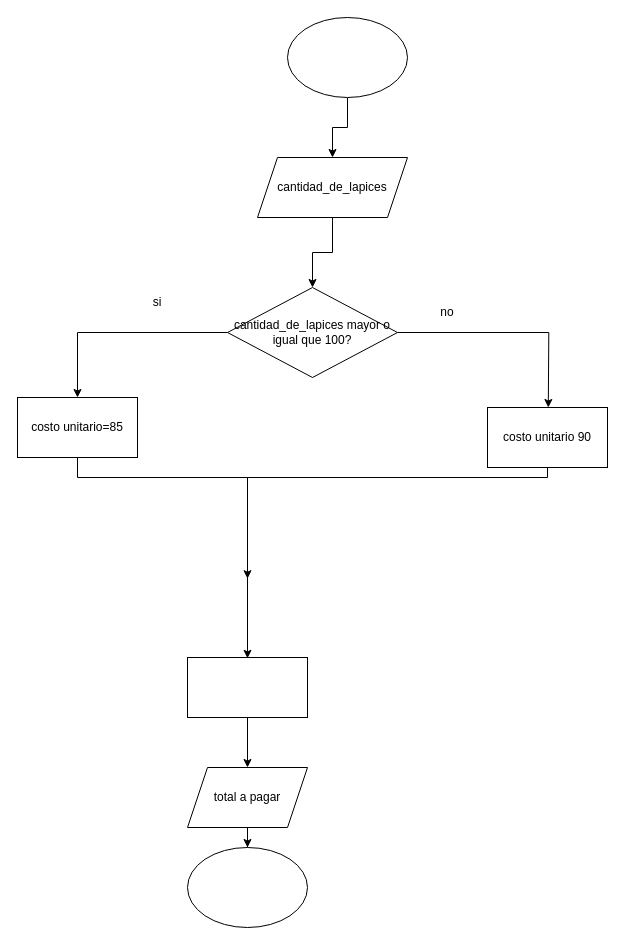
Image size: 625x945. Some labels were removed from this diagram. The shapes that lost their labels are listed below. From the top down, each one's centre as x and y in pixels, then its label:
point (347, 57): inicio
point (247, 687): cantidad_de_lapices por costo unitario=total por pagar
point (247, 887): fin
